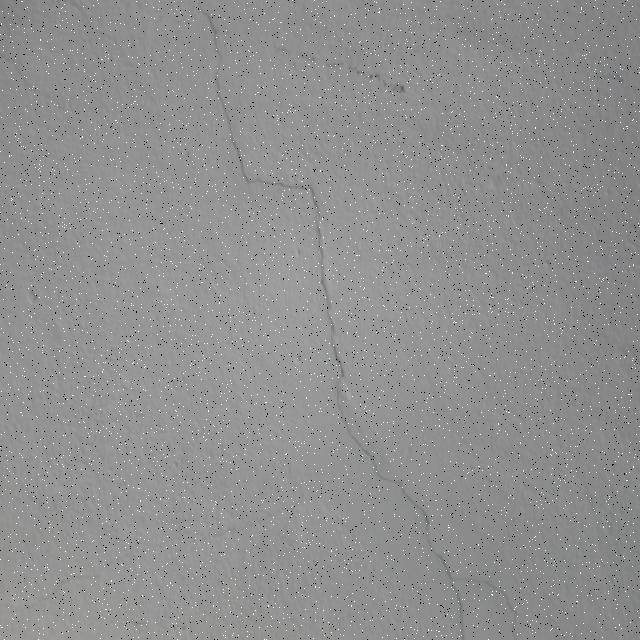minor crack: (224, 159, 310, 192)
moderate crack: (313, 207, 340, 368), (458, 561, 520, 630)
severe crack: (198, 10, 466, 623), (399, 493, 466, 632), (204, 13, 257, 184), (317, 240, 327, 271)
